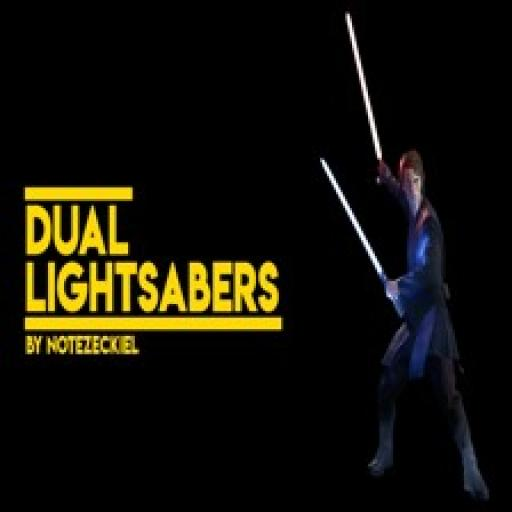human: (368, 148, 490, 501)
lightsaber: (320, 160, 403, 314), (344, 13, 386, 183)
